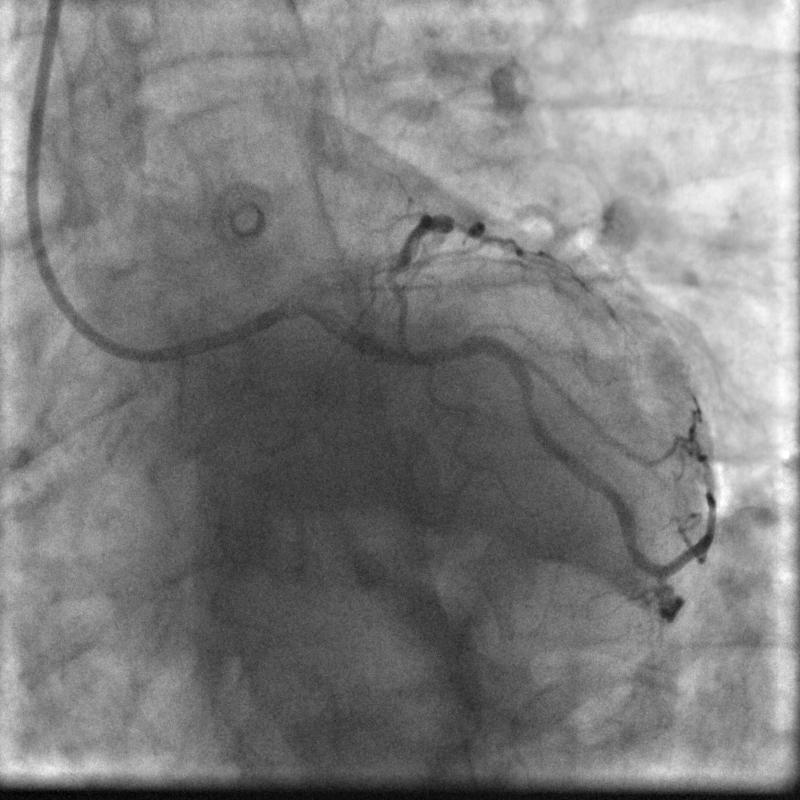Stenosis: (520, 392, 540, 423)
